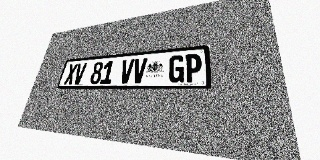1: (100, 60, 115, 84)
8: (89, 61, 104, 84)
G: (168, 55, 185, 83)
P: (184, 53, 202, 82)
V: (119, 59, 135, 84), (131, 58, 147, 83), (72, 63, 87, 84)
X: (63, 64, 78, 84)
